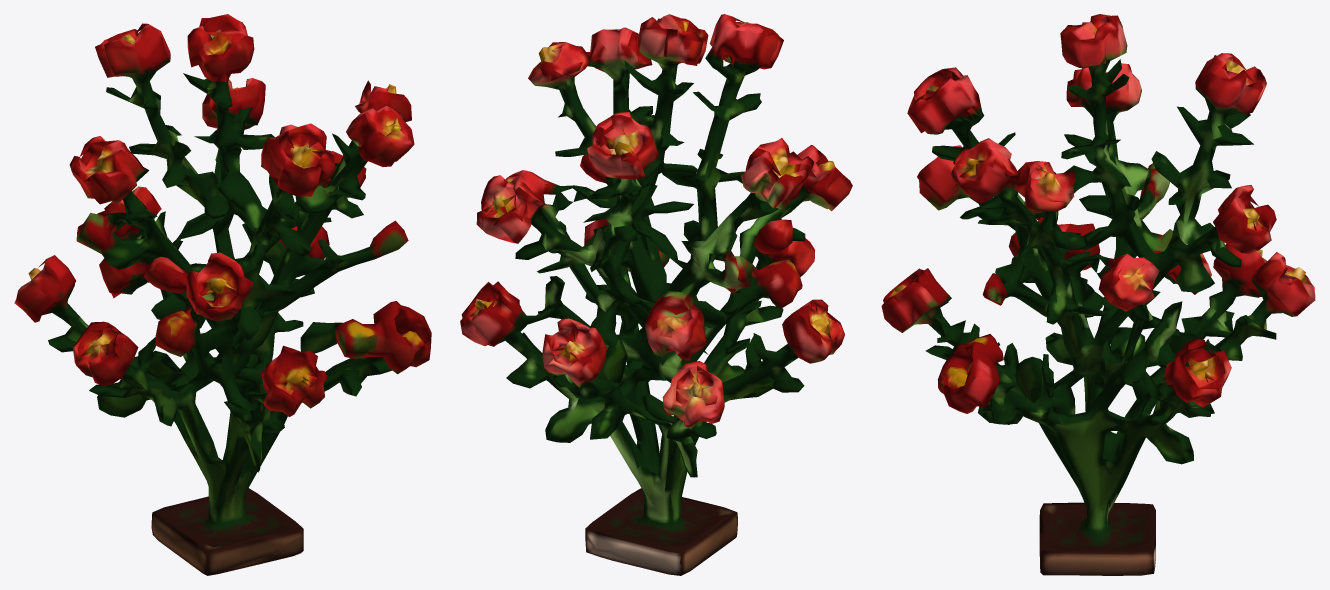
File: rosebush.fbx
The picture shows the model from 3 angles, left to right: view 1: azimuth 30°, elevation 25°; view 2: azimuth 150°, elevation 25°; view 3: azimuth 270°, elevation 25°; orthographic projection.
Parts seen in each view (by area): view 1: Voxel Rose Bush; view 2: Voxel Rose Bush; view 3: Voxel Rose Bush.
Part boxes in pixels (box(x1,y1,x2,y2)): Voxel Rose Bush: box(14, 14, 431, 575); Voxel Rose Bush: box(460, 14, 852, 575); Voxel Rose Bush: box(881, 14, 1315, 575).
Size of the model in its own units: 24.93 by 40 by 29.55.
1 material, 1 textured.
